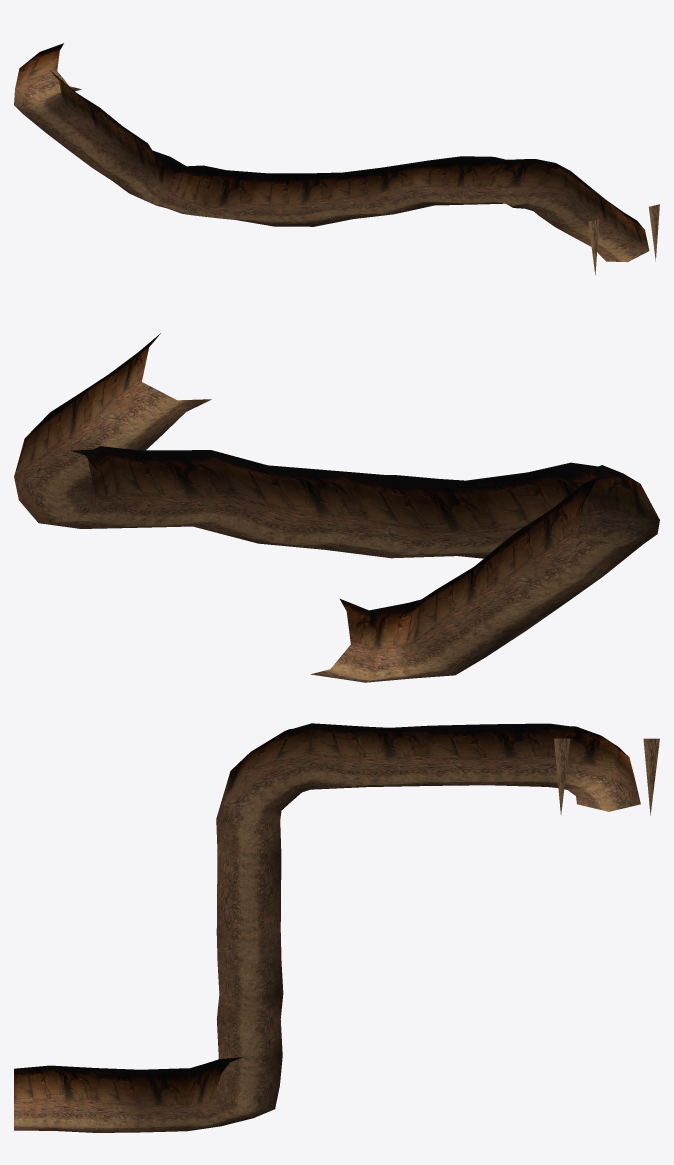
The model's file is Mis1_Zone2A.glb.
The picture shows the model from 3 angles, top to bottom: view 1: azimuth 30°, elevation 25°; view 2: azimuth 150°, elevation 25°; view 3: azimuth 270°, elevation 25°; orthographic projection. The views are drawn at different scales.
Visible parts, largest first — view 1: MIS1_ZONE2A008, MIS1_ZONE2A009, MIS1_ZONE2A010, MIS1_ZONE2A012, MIS1_ZONE2A011, MIS1_ZONE2A013, MIS1_ZONE2A014, MIS1_ZONE2A006, MIS1_ZONE2A001, MIS1_ZONE2A007, MIS1_ZONE2A, MIS1_ZONE2A015 (+3 smaller); view 2: MIS1_ZONE2A014, MIS1_ZONE2A004, MIS1_ZONE2A005, MIS1_ZONE2A003, MIS1_ZONE2A006, MIS1_ZONE2A013, MIS1_ZONE2A008, MIS1_ZONE2A002, MIS1_ZONE2A001, MIS1_ZONE2A, MIS1_ZONE2A007, MIS1_ZONE2A010 (+2 smaller); view 3: MIS1_ZONE2A008, MIS1_ZONE2A014, MIS1_ZONE2A, MIS1_ZONE2A013, MIS1_ZONE2A006, MIS1_ZONE2A002, MIS1_ZONE2A003, MIS1_ZONE2A009, MIS1_ZONE2A010, MIS1_ZONE2A004, MIS1_ZONE2A005, MIS1_ZONE2A011 (+2 smaller).
Boxes of the visible parts, x1,y1,x2,y2 form: MIS1_ZONE2A008: (92, 127, 224, 218); MIS1_ZONE2A009: (200, 167, 308, 220); MIS1_ZONE2A010: (289, 167, 381, 220); MIS1_ZONE2A012: (448, 156, 537, 204); MIS1_ZONE2A011: (368, 156, 461, 212); MIS1_ZONE2A013: (45, 93, 134, 170); MIS1_ZONE2A014: (14, 70, 88, 132); MIS1_ZONE2A006: (460, 157, 597, 227); MIS1_ZONE2A001: (589, 186, 659, 261); MIS1_ZONE2A007: (537, 163, 598, 215); MIS1_ZONE2A: (556, 216, 648, 275); MIS1_ZONE2A015: (15, 43, 69, 95); MIS1_ZONE2A014: (330, 567, 524, 682); MIS1_ZONE2A004: (268, 465, 431, 552); MIS1_ZONE2A005: (137, 450, 298, 542); MIS1_ZONE2A003: (400, 464, 586, 552); MIS1_ZONE2A006: (14, 445, 167, 525); MIS1_ZONE2A013: (454, 509, 602, 632); MIS1_ZONE2A008: (533, 467, 659, 582); MIS1_ZONE2A002: (530, 462, 659, 540); MIS1_ZONE2A001: (61, 333, 160, 445); MIS1_ZONE2A: (61, 382, 211, 457); MIS1_ZONE2A007: (14, 394, 78, 493); MIS1_ZONE2A010: (260, 541, 410, 558); MIS1_ZONE2A008: (245, 723, 368, 858); MIS1_ZONE2A014: (487, 723, 633, 814); MIS1_ZONE2A: (14, 1065, 142, 1132); MIS1_ZONE2A013: (367, 724, 488, 786); MIS1_ZONE2A006: (140, 1057, 253, 1132); MIS1_ZONE2A002: (216, 752, 253, 858); MIS1_ZONE2A003: (216, 852, 249, 937); MIS1_ZONE2A009: (248, 856, 281, 937); MIS1_ZONE2A010: (249, 930, 283, 1002); MIS1_ZONE2A004: (216, 934, 251, 1002); MIS1_ZONE2A005: (216, 994, 251, 1063); MIS1_ZONE2A011: (249, 993, 283, 1063).
Size of the model in its own units: 42.4 by 13.99 by 42.89.
2 materials, 2 textured.
